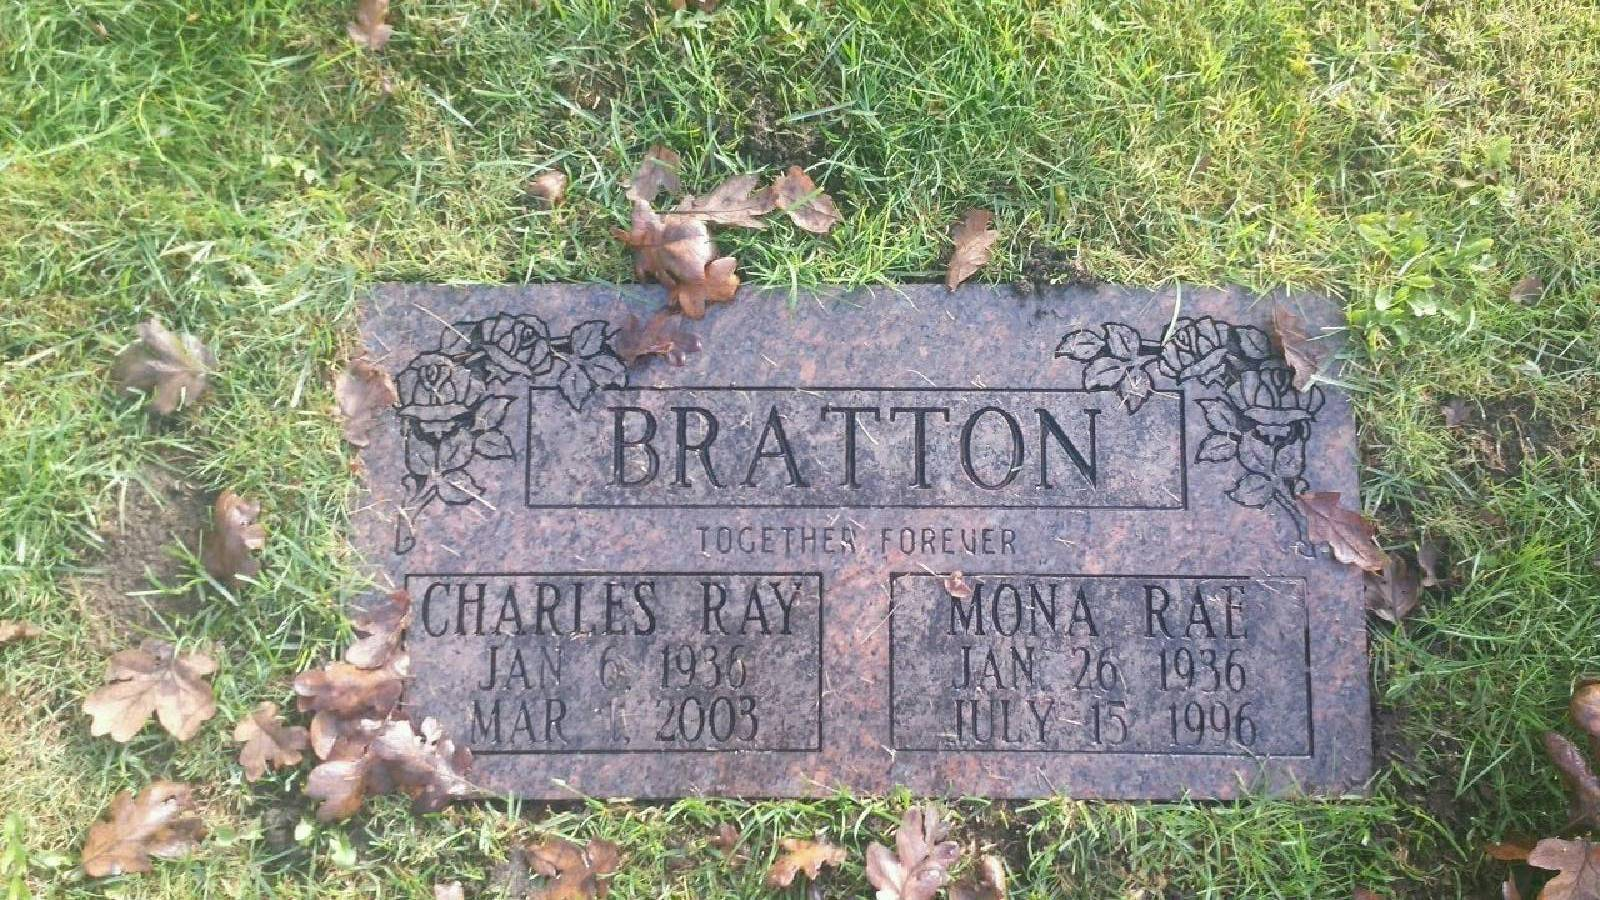flat: (309, 251, 1410, 838)
